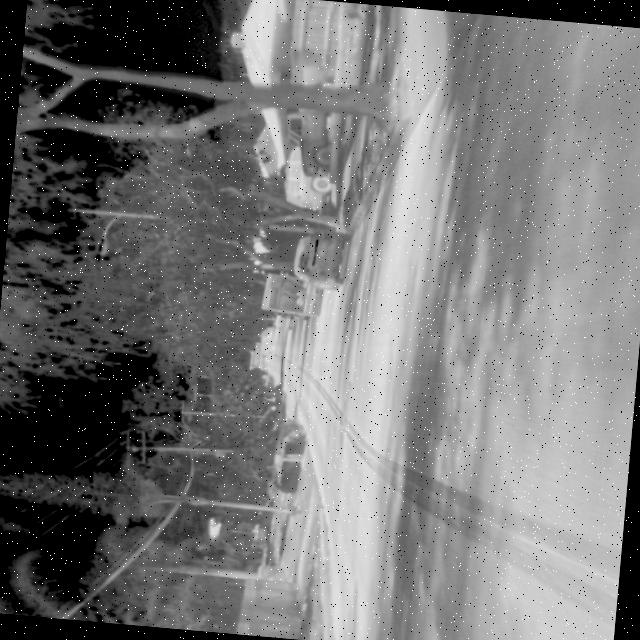Vehicle: (281, 63, 343, 178), (288, 224, 351, 292), (277, 143, 337, 213), (258, 270, 324, 319)
